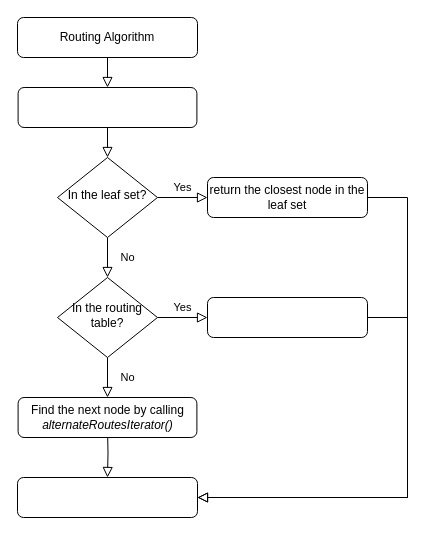
The diagram is 435 pixels wide and 535 high, and some of its shapes have lost their labels. Each missing label, with the centre of its shape:
"Find the next node by calling getBestRoutingCandidates()" goes at (107,107).
"forward to the next node" goes at (107,497).
"return the node in the routing entry" goes at (287,317).
